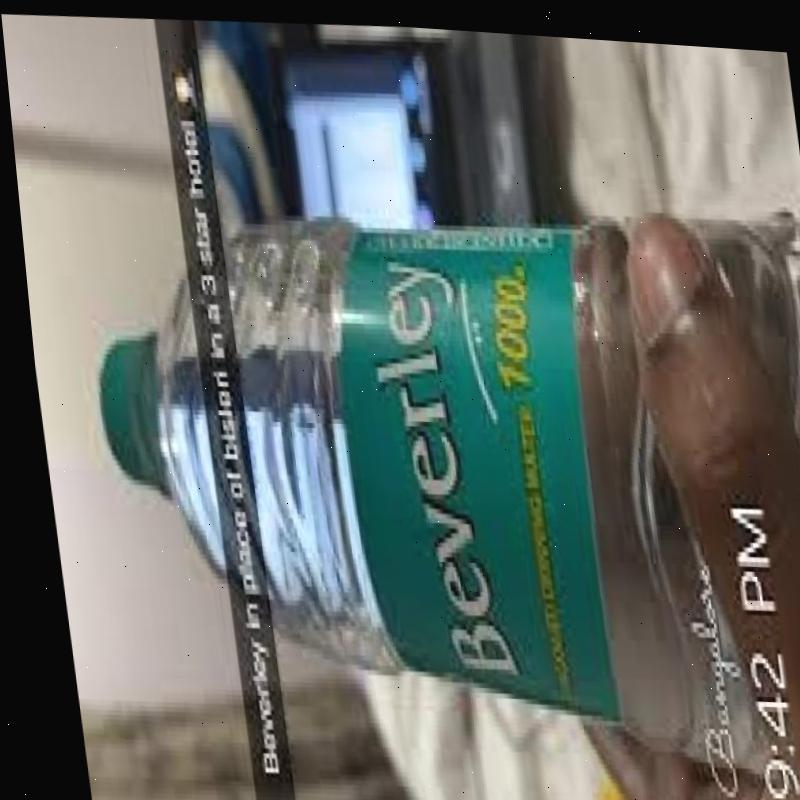botella: (66, 163, 800, 800)
